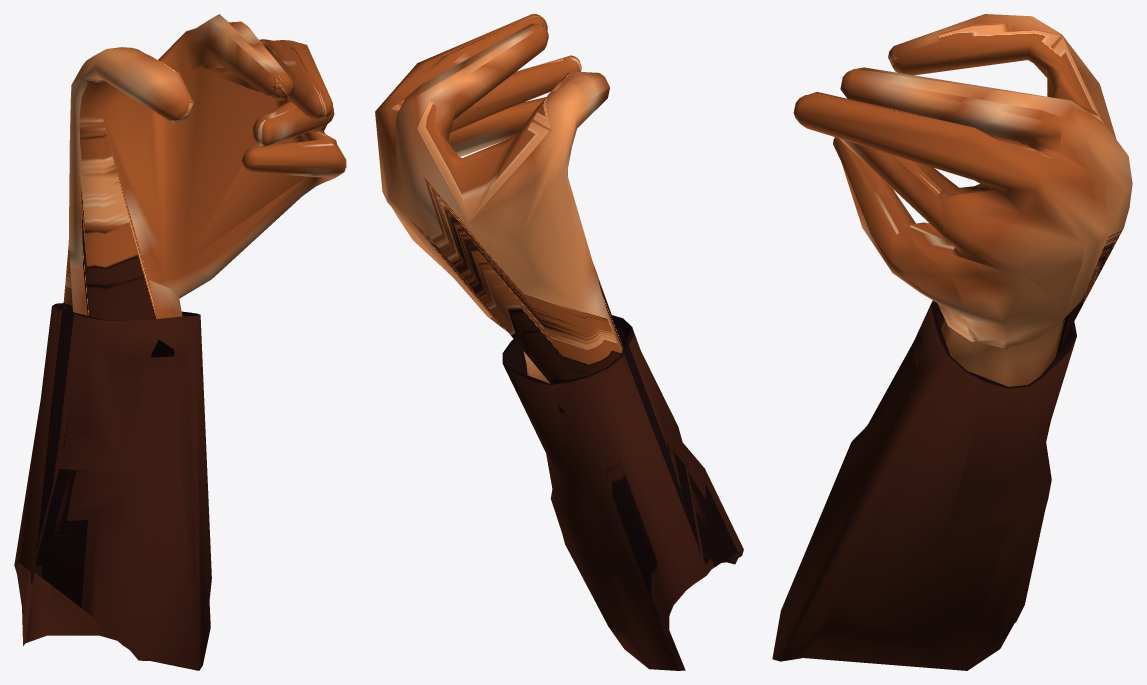
The model's file is RootedManHand.fbx.
3 renders of one model, left to right at view 1: azimuth 30°, elevation 25°; view 2: azimuth 150°, elevation 25°; view 3: azimuth 270°, elevation 25°, orthographic. The views are drawn at different scales.
Parts seen in each view (by area): view 1: Ch31_aBody; view 2: Ch31_aBody; view 3: Ch31_aBody.
Boxes of the visible parts, x1,y1,x2,y2 form: Ch31_aBody: (14, 14, 346, 670); Ch31_aBody: (375, 14, 743, 670); Ch31_aBody: (772, 14, 1132, 670).
Bounding box in the file's own units: 530 × 934 × 447.
1 material, 1 textured.
